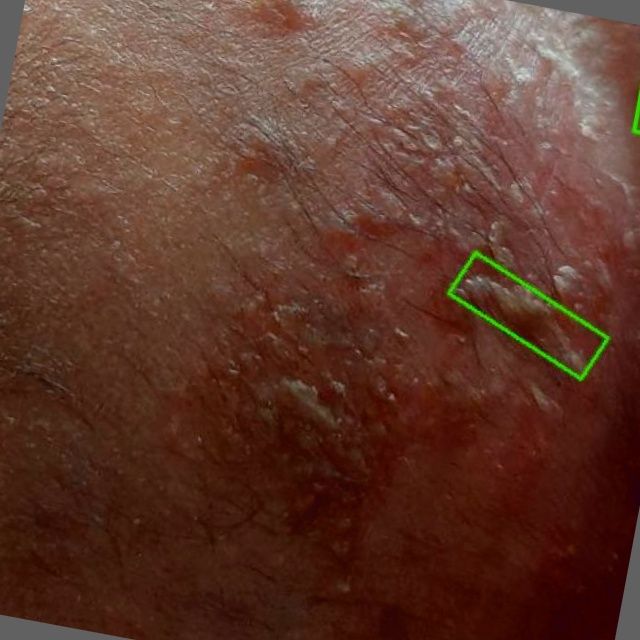Seborrheic Dermatitis: (449, 253, 608, 379)
